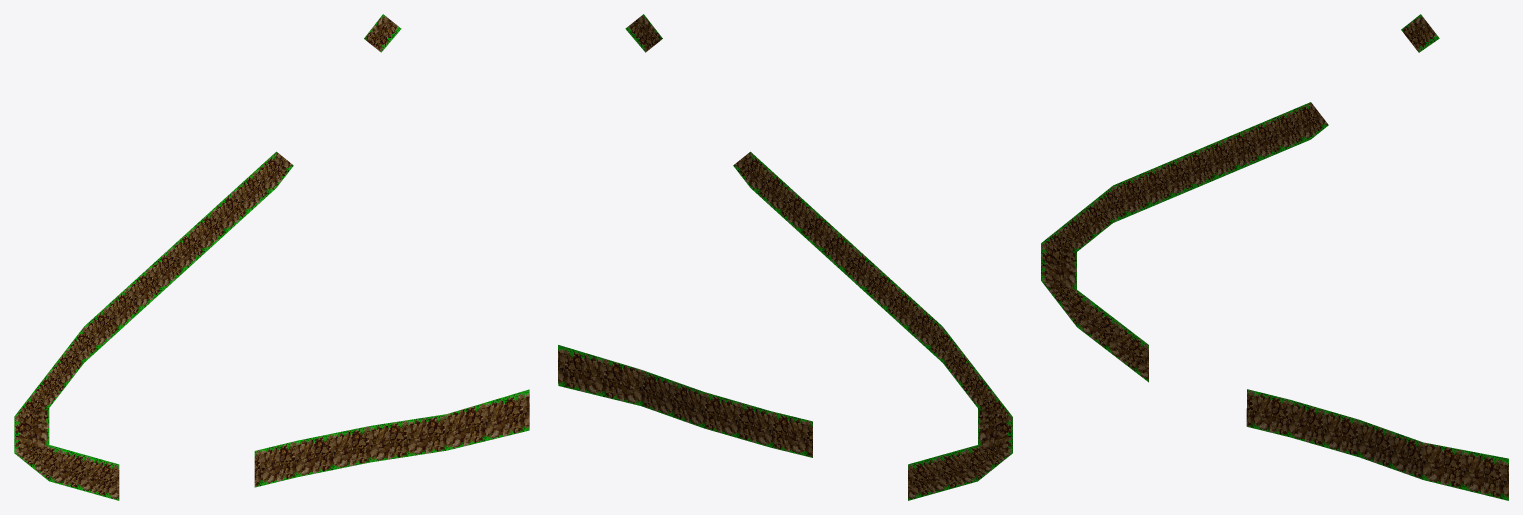
Rendered from Shape_IndexedFaceSet.010.obj.
3 renders of one model, left to right at view 1: azimuth 30°, elevation 25°; view 2: azimuth 150°, elevation 25°; view 3: azimuth 330°, elevation 25°, orthographic. The views are drawn at different scales.
Visible parts, largest first — view 1: Shape_IndexedFaceSet.010; view 2: Shape_IndexedFaceSet.010; view 3: Shape_IndexedFaceSet.010.
Boxes of the visible parts, box(x1,y1,x2,y2) form: Shape_IndexedFaceSet.010: box(14, 14, 529, 500); Shape_IndexedFaceSet.010: box(558, 14, 1012, 500); Shape_IndexedFaceSet.010: box(1041, 14, 1508, 500).
Bounding box in the file's own units: 7.1 × 5.91 × 0.7752.
1 material, 1 textured.
